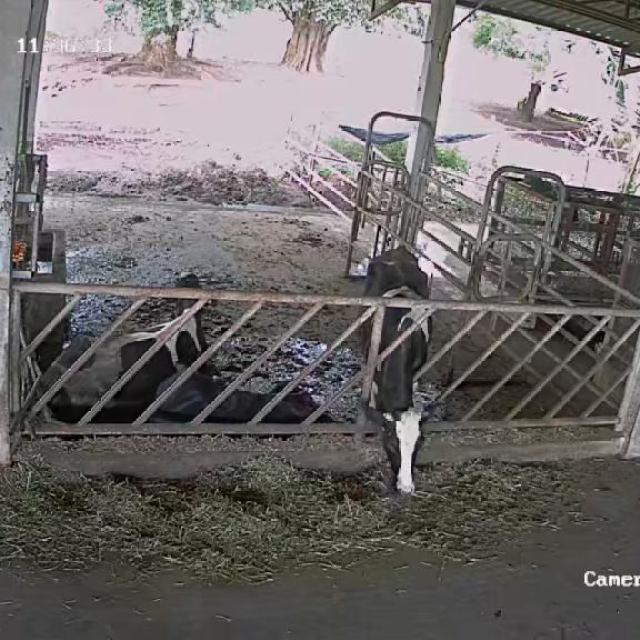feeding: (361, 244, 446, 506)
lying down: (23, 270, 211, 411), (135, 366, 332, 426)
